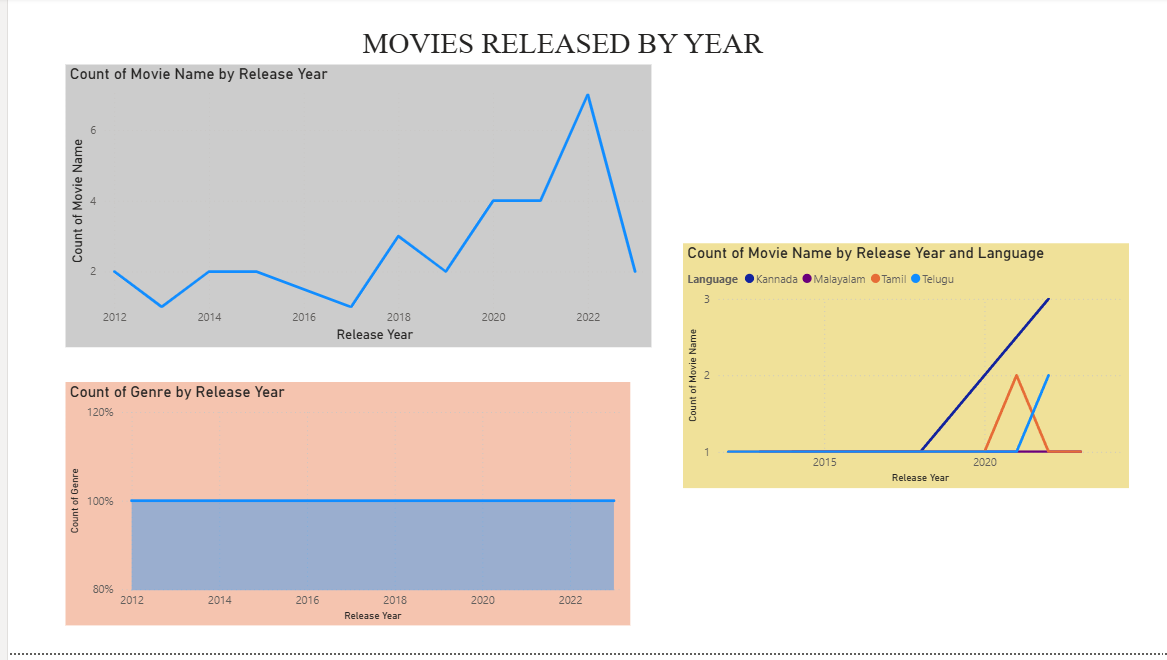

The page's visual inventory and layout, read from the dashboard file:
{"tool":"powerbi","page":{"name":"Page 4","canvas":[1280,720],"ordinal":3},"visuals":[{"type":"textbox","box":[384.2,27.4,452.8,57.6],"z":0},{"type":"lineChart","fields":{"Category":["Table 1 (South Indian Movies).Release Year"],"Y":["CountNonNull(Table 1 (South Indian Movies).Movie Name)"]},"box":[63.1,74.1,643.6,310.1],"z":1000},{"type":"hundredPercentStackedAreaChart","fields":{"Category":["Table 1 (South Indian Movies).Release Year"],"Y":["CountNonNull(Table 1 (South Indian Movies).Genre)"]},"box":[63.1,422.6,620.2,267.6],"z":2000},{"type":"lineChart","fields":{"Category":["Table 1 (South Indian Movies).Release Year"],"Y":["CountNonNull(Table 1 (South Indian Movies).Movie Name)"],"Series":["Table 1 (South Indian Movies).Language"]},"box":[741,270.3,489.9,269],"z":3000}]}

Visuals, with their boxes in screenshot pixels (x1, y1, x2, y2), scaled from the page's 1280x720 canvas onto the 1167x660 screenshot:
textbox: l=350, t=25, r=763, b=78
lineChart - Table 1 (South Indian Movies).Release Year x CountNonNull(Table 1 (South Indian Movies).Movie Name): l=58, t=68, r=644, b=352
hundredPercentStackedAreaChart - Table 1 (South Indian Movies).Release Year x CountNonNull(Table 1 (South Indian Movies).Genre): l=58, t=387, r=623, b=633
lineChart - Table 1 (South Indian Movies).Release Year x CountNonNull(Table 1 (South Indian Movies).Movie Name): l=676, t=248, r=1122, b=494
